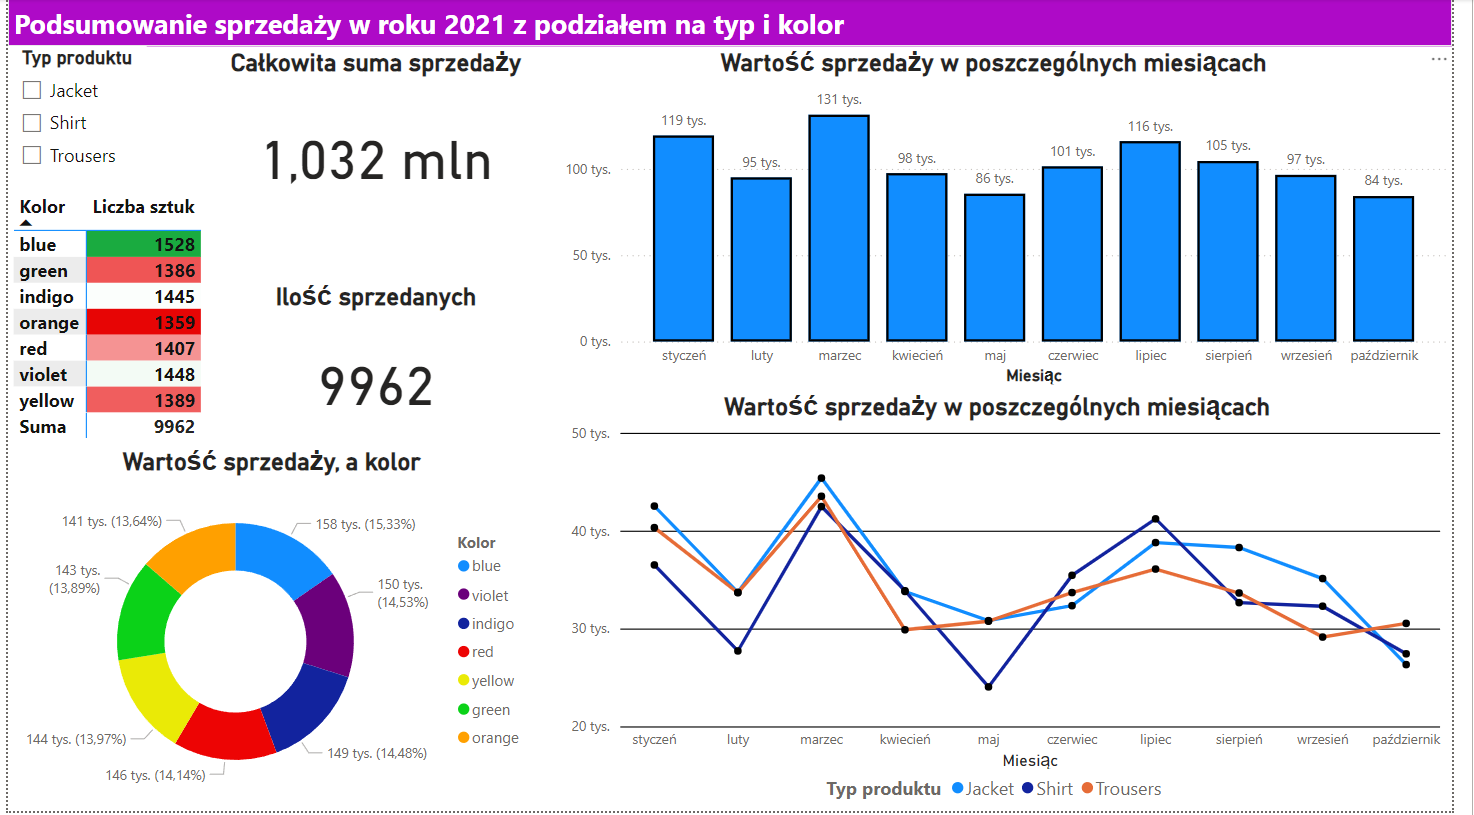

This screenshot's page, from the dashboard's own definition file:
{"tool":"powerbi","page":{"name":"Sprzedaż ","canvas":[1280,720],"ordinal":0},"visuals":[{"type":"columnChart","title":"Wartość sprzedaży w poszczególnych miesiącach","fields":{"Y":["sales.TotalSalesByMonth"],"Category":["orders.order_date.Odmiana.Hierarchia dat.Miesiąc"]},"box":[467.3,41.7,813.1,305],"z":0},{"type":"card","title":"Całkowita suma sprzedaży","fields":{"Values":["sales.TotalSalesValue"]},"box":[185.3,41.7,282,166.7],"z":1000},{"type":"card","title":"Ilość sprzedanych","fields":{"Values":["sales.TotalQuantity"]},"box":[185.3,249.2,282,152.5],"z":2000},{"type":"lineChart","title":"Wartość sprzedaży w poszczególnych miesiącach","fields":{"Category":["orders.order_date.Odmiana.Hierarchia dat.Miesiąc"],"Y":["sales.TotalSalesValue"],"Series":["products.product_type"]},"box":[473.5,346.7,806.9,373.3],"z":3000},{"type":"textbox","box":[0,0,1280.4,41.7],"z":4000},{"type":"slicer","title":"Typ produktu","fields":{"Values":["products.product_type"]},"box":[0,41.8,122.6,124.5],"z":5000},{"type":"donutChart","title":"Wartość sprzedaży, a kolor","fields":{"Y":["sales.TotalSalesValue"],"Category":["products.colour"]},"box":[0,395.5,467.3,324.5],"z":6000},{"type":"pivotTable","fields":{"Rows":["products.colour"],"Values":["Sum(sales.quantity)"]},"box":[0,166.3,185.8,229.5],"z":7001}]}

Visuals, with their boxes in screenshot pixels (x1, y1, x2, y2), scaled from the page's 1280x720 canvas onto the 1474x815 screenshot:
"Wartość sprzedaży w poszczególnych miesiącach" columnChart: BBox(538, 47, 1473, 392)
"Całkowita suma sprzedaży" card: BBox(213, 47, 538, 236)
"Ilość sprzedanych" card: BBox(213, 282, 538, 455)
"Wartość sprzedaży w poszczególnych miesiącach" lineChart: BBox(545, 392, 1473, 814)
textbox: BBox(0, 0, 1473, 47)
"Typ produktu" slicer: BBox(0, 47, 141, 188)
"Wartość sprzedaży, a kolor" donutChart: BBox(0, 448, 538, 814)
pivotTable - products.colour x Sum(sales.quantity): BBox(0, 188, 214, 448)
